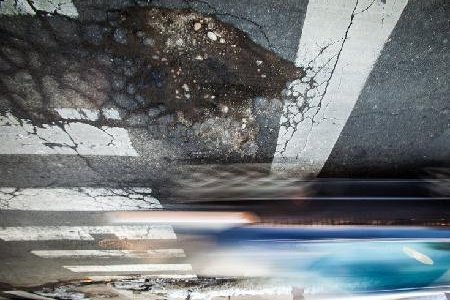pothole: (108, 3, 299, 123)
